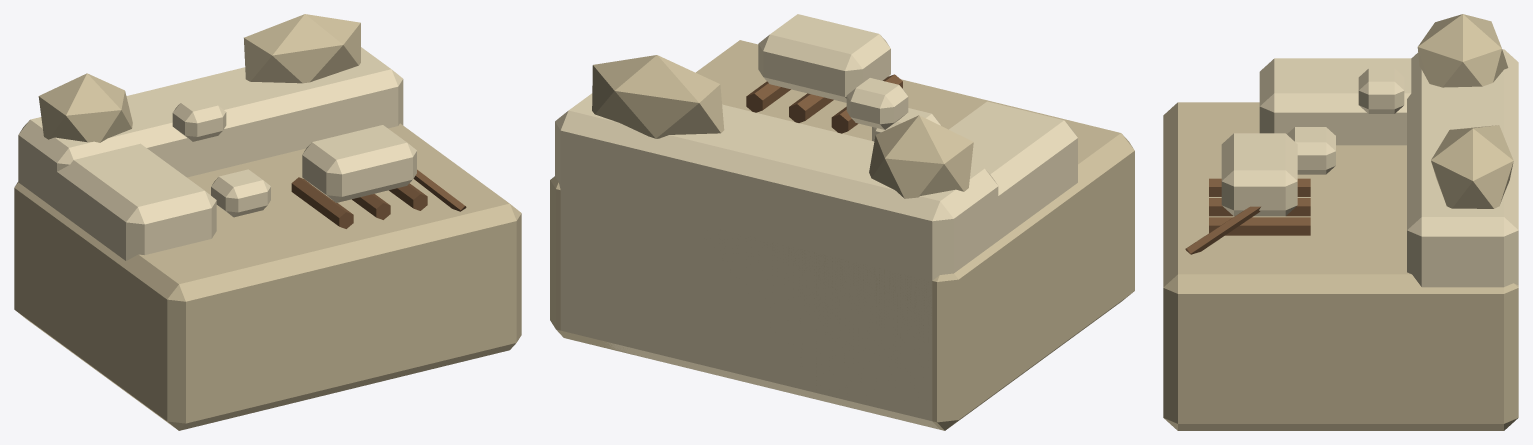
Rendered from ns-quarry-cut.glb.
The picture shows the model from 3 angles, left to right: view 1: azimuth 30°, elevation 25°; view 2: azimuth 150°, elevation 25°; view 3: azimuth 270°, elevation 25°; orthographic projection. The views are drawn at different scales.
Visible parts, largest first — view 1: Cube; view 2: Cube; view 3: Cube.
Part boxes in pixels (<box>): Cube: <box>14,14,521,430</box>; Cube: <box>550,14,1134,430</box>; Cube: <box>1163,14,1518,430</box>.
Size of the model in its own units: 0.86 by 0.5823 by 0.7.
